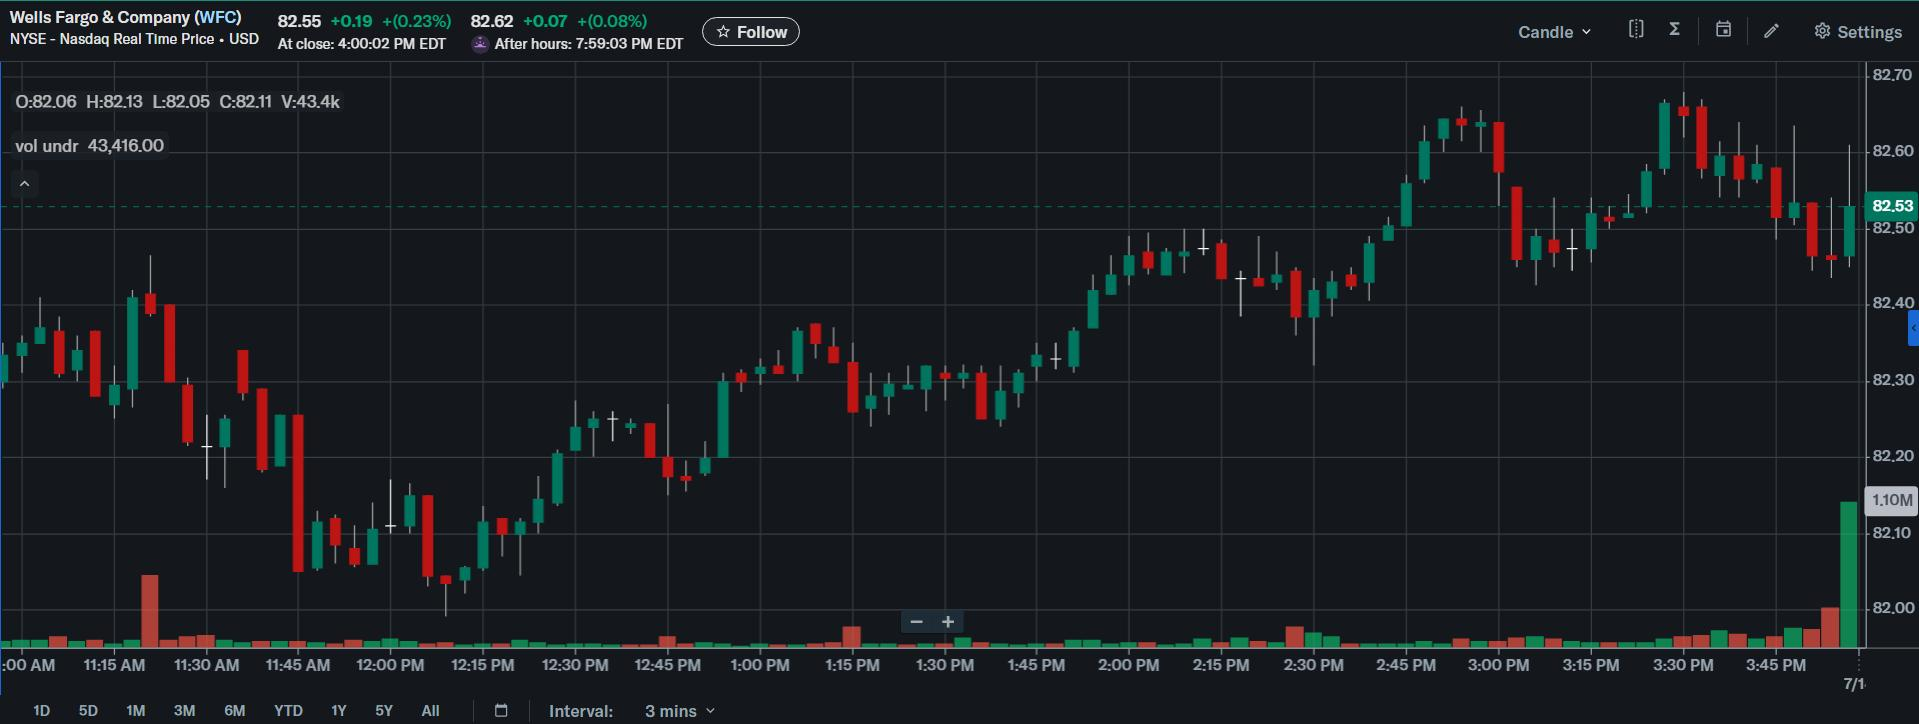Downtrend: (148, 264, 319, 610)
Uptrend: (986, 185, 1191, 487), (1321, 81, 1480, 396), (456, 396, 624, 615), (1546, 94, 1694, 328)
